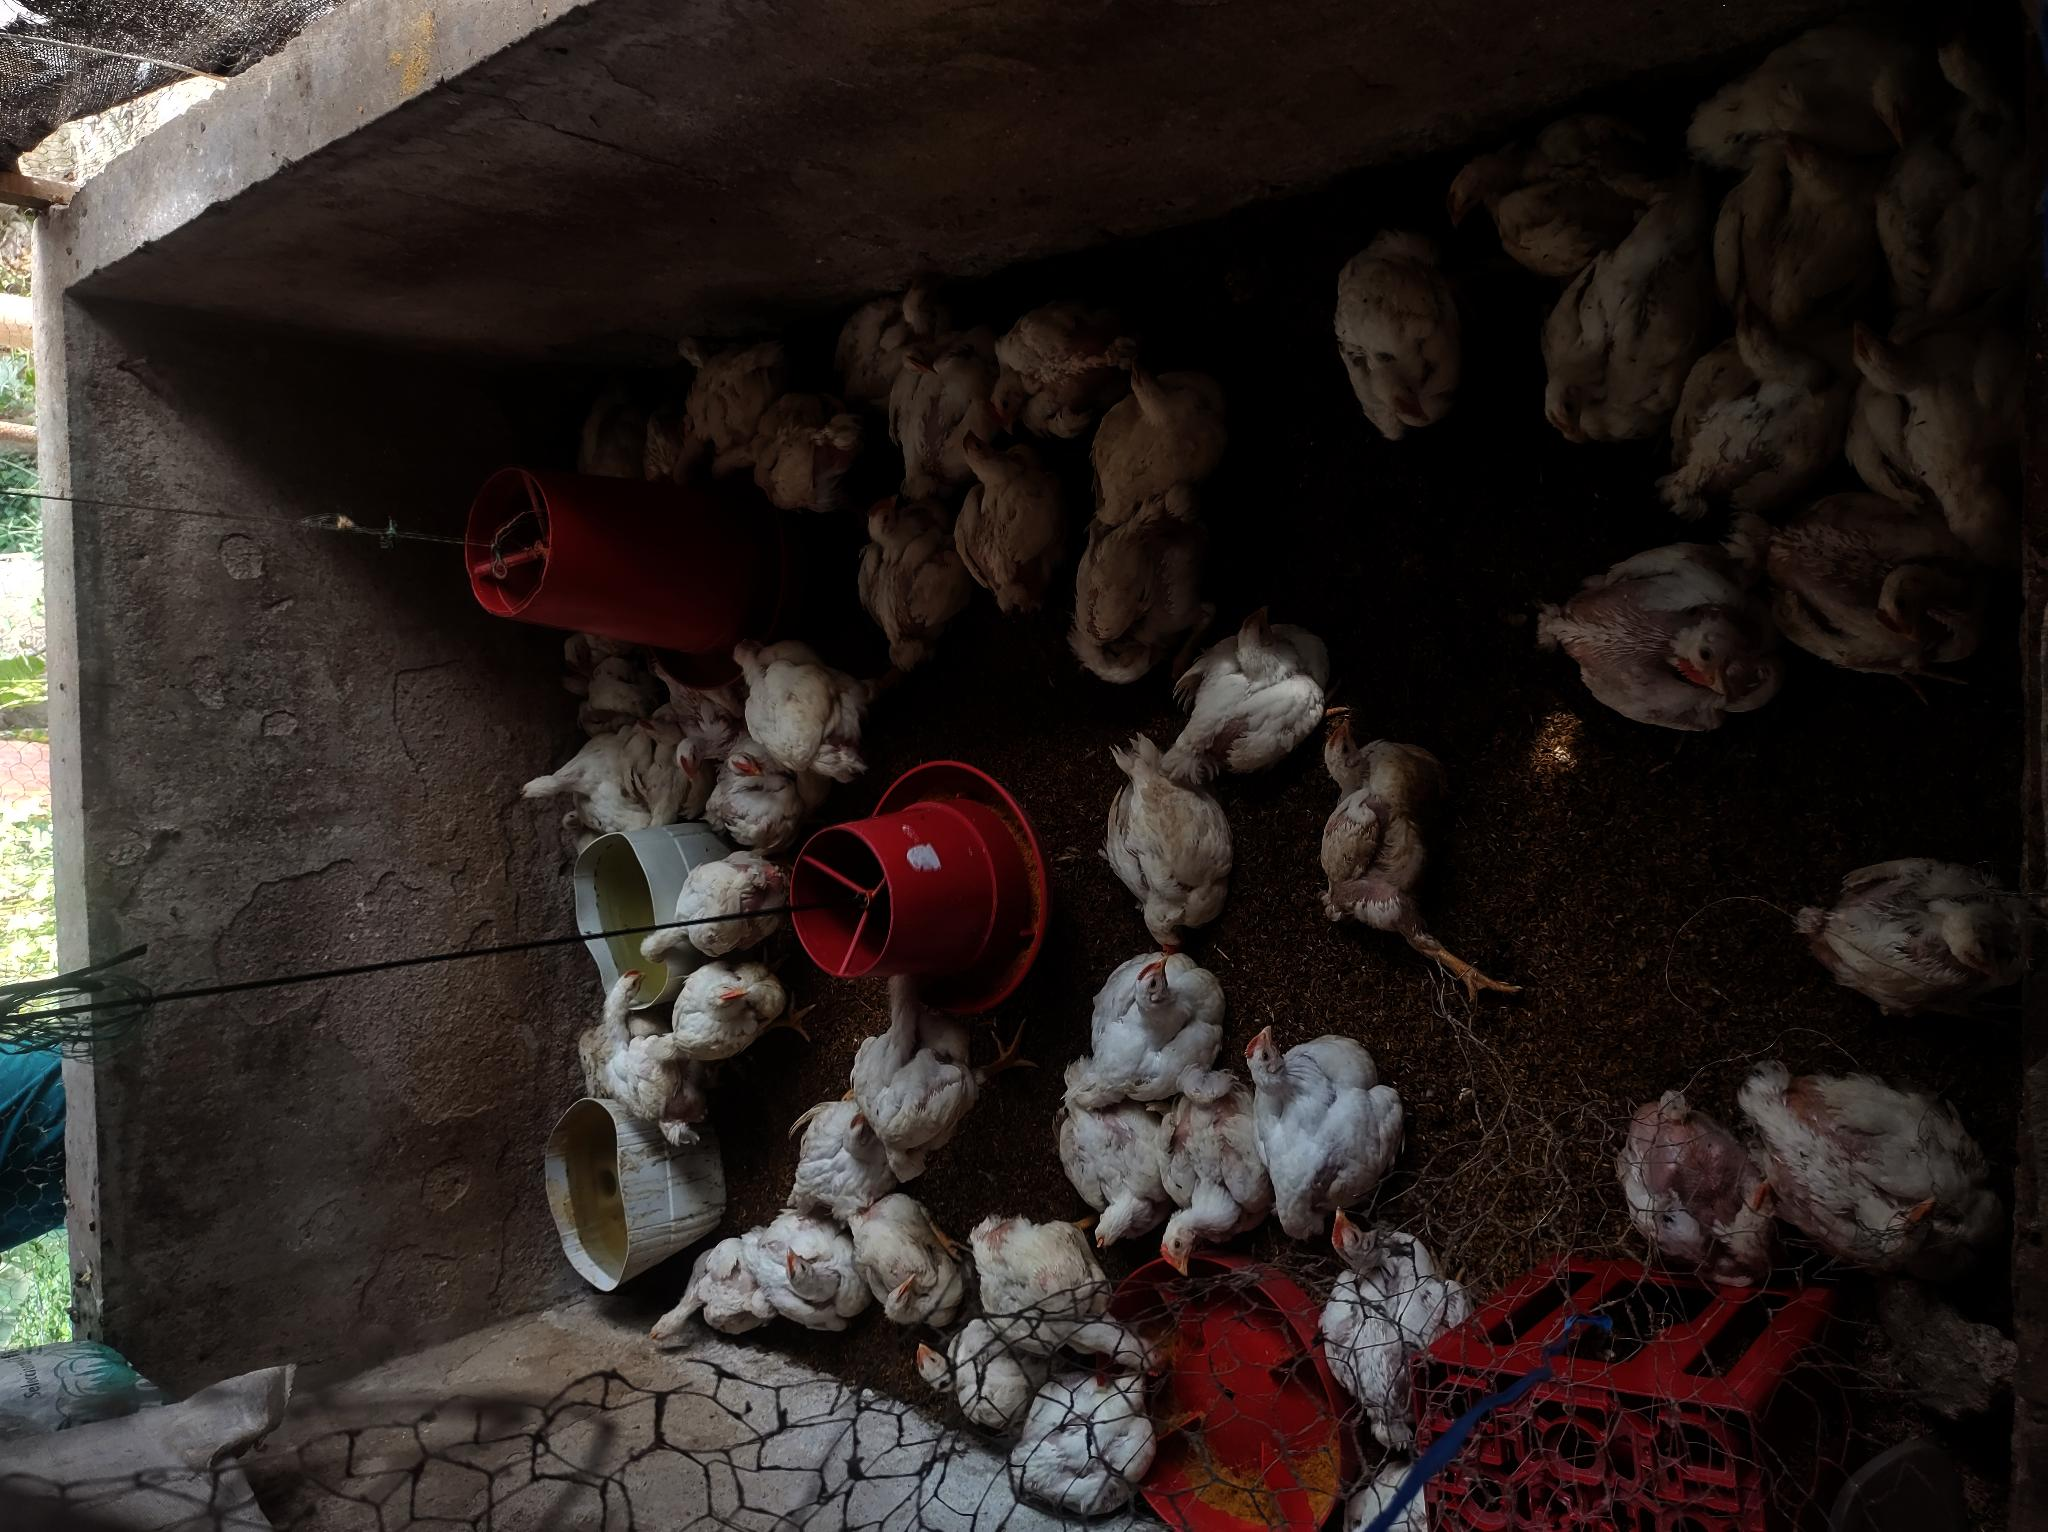Pollos: (1310, 716, 1538, 1025), (1736, 1069, 2032, 1300), (1779, 826, 2045, 1035), (1319, 217, 1525, 463), (1544, 185, 1717, 476), (1316, 1199, 1488, 1464), (1541, 544, 1766, 747), (1760, 497, 1977, 706), (1837, 309, 2038, 531), (1676, 13, 1940, 179), (957, 1196, 1171, 1394), (1205, 1001, 1409, 1204), (1668, 303, 1857, 513), (1602, 1078, 1773, 1310), (1445, 105, 1662, 278), (1068, 954, 1297, 1099), (1083, 739, 1232, 956), (837, 970, 988, 1175), (1927, 27, 2048, 278), (1038, 1094, 1202, 1278), (1160, 600, 1330, 771), (1733, 114, 1877, 309), (1063, 488, 1202, 689), (940, 428, 1073, 615), (1165, 1085, 1282, 1278), (1010, 1389, 1165, 1532), (734, 634, 869, 782), (676, 323, 796, 489), (629, 840, 787, 966), (989, 282, 1120, 431), (1086, 359, 1224, 496), (903, 1324, 1051, 1448), (841, 1194, 973, 1328), (848, 492, 952, 660), (640, 1225, 771, 1357), (875, 328, 1002, 455), (735, 1218, 869, 1337), (669, 961, 819, 1062), (603, 1040, 722, 1165), (751, 396, 866, 517), (774, 1098, 883, 1223), (832, 269, 935, 397), (505, 735, 635, 837), (566, 969, 664, 1098), (716, 740, 804, 869), (578, 629, 650, 737), (574, 377, 648, 480), (648, 642, 730, 731), (676, 734, 746, 792), (635, 715, 681, 784), (544, 632, 587, 697), (549, 801, 602, 848)
